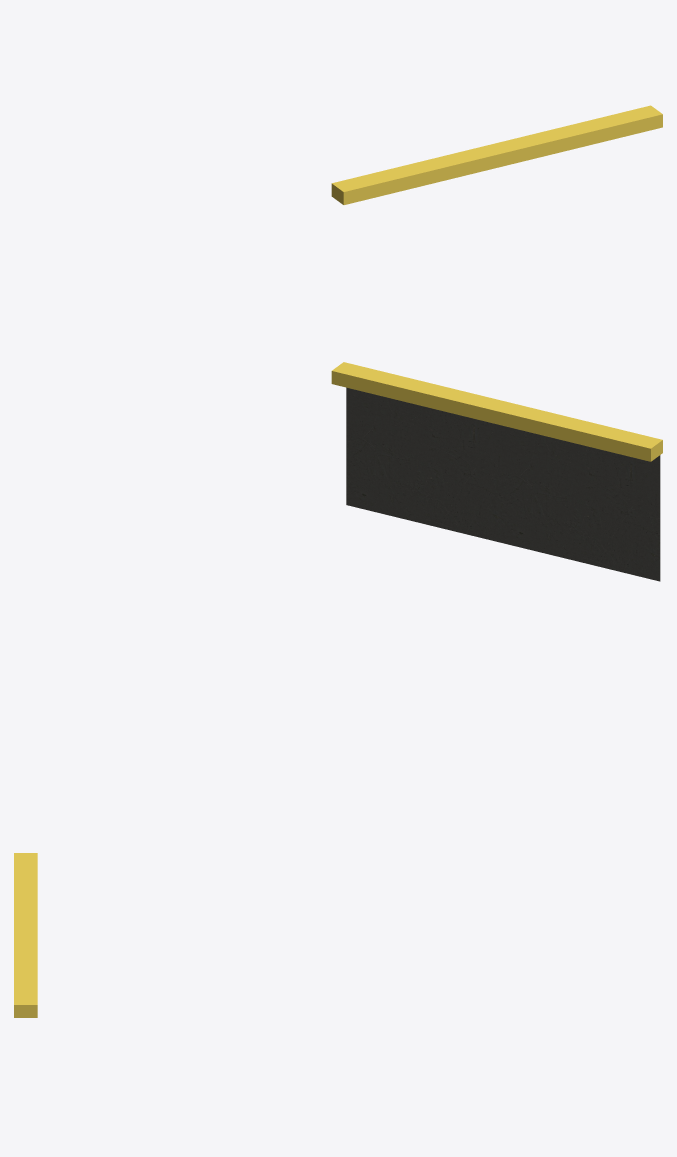
File: stunt_ramp.glb
The picture shows the model from 3 angles, top to bottom: view 1: azimuth 30°, elevation 25°; view 2: azimuth 150°, elevation 25°; view 3: azimuth 270°, elevation 25°; orthographic projection. The views are drawn at different scales.
Parts seen in each view (by area): view 1: RampRoot; view 2: RampRoot; view 3: RampRoot.
Part boxes in pixels (x1,y1,x2,y2): RampRoot: [331, 105, 662, 204]; RampRoot: [331, 362, 662, 581]; RampRoot: [14, 853, 37, 1017].
Bounding box in the file's own units: 6.1 × 2.6 × 11.
2 materials, 1 textured.
